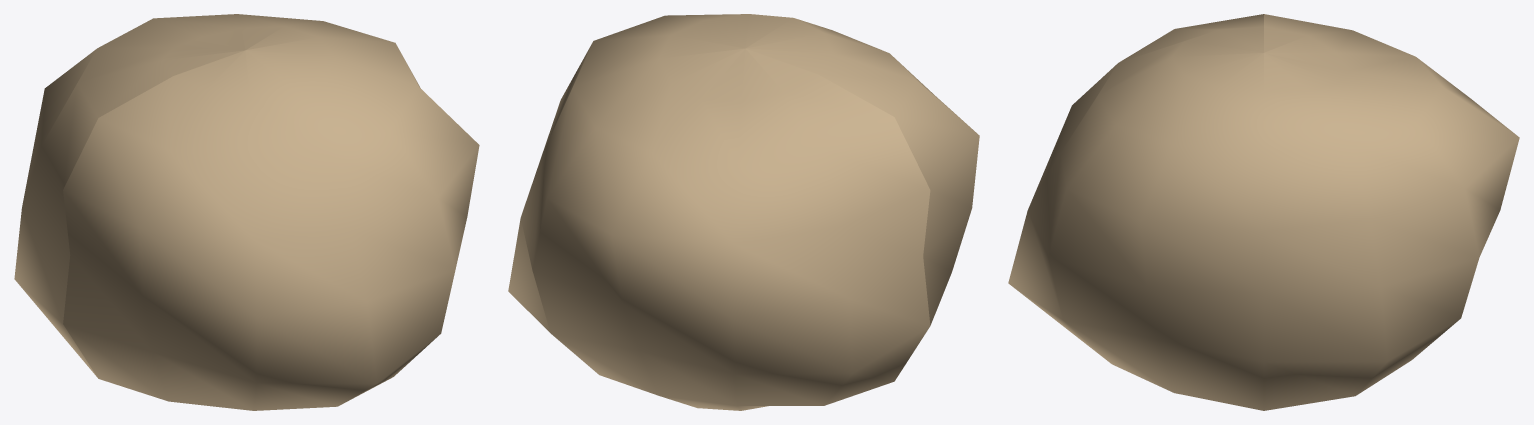
File: left_cuboid.glb
3 views of the same model, side by side, from view 1: azimuth 30°, elevation 25°; view 2: azimuth 150°, elevation 25°; view 3: azimuth 270°, elevation 25° (orthographic). The views are drawn at different scales.
Visible parts, largest first — view 1: left_cuboid:body; view 2: left_cuboid:body; view 3: left_cuboid:body.
Part boxes in pixels (box(x1,y1,x2,y2)): left_cuboid:body: box(14, 14, 479, 410); left_cuboid:body: box(508, 14, 979, 410); left_cuboid:body: box(1008, 14, 1519, 410).
Size of the model in its own units: 0.048 by 0.0408 by 0.06.
